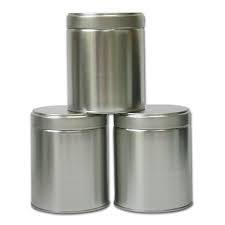Tin: (5, 4, 216, 221)
